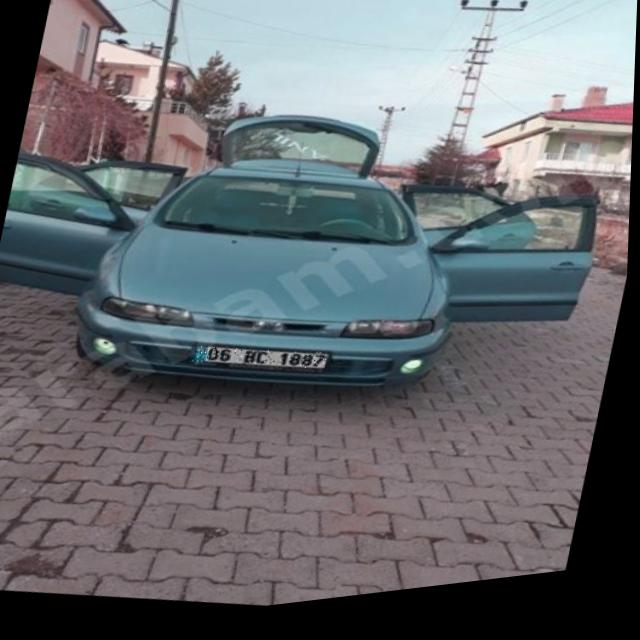license_plate: (194, 337, 333, 389)
